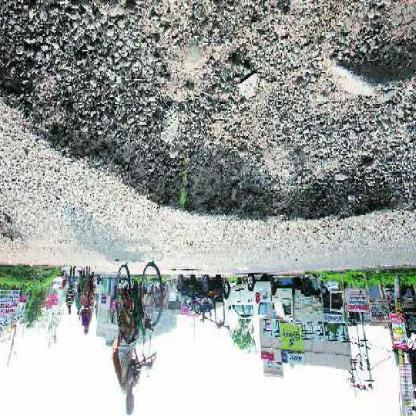pothole: (2, 2, 416, 226)
